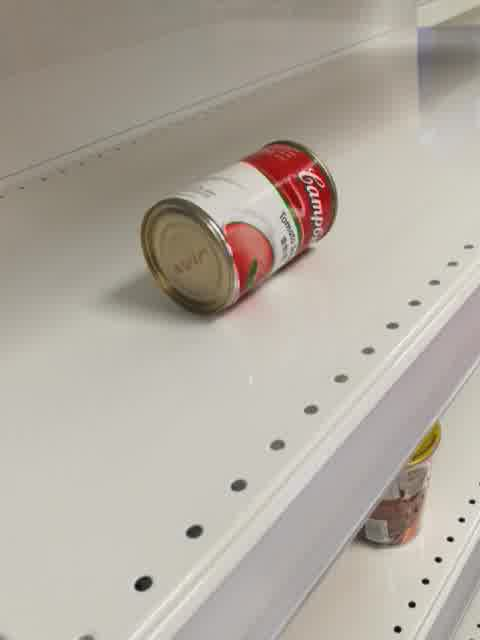tomatosoup: (140, 137, 338, 318)
